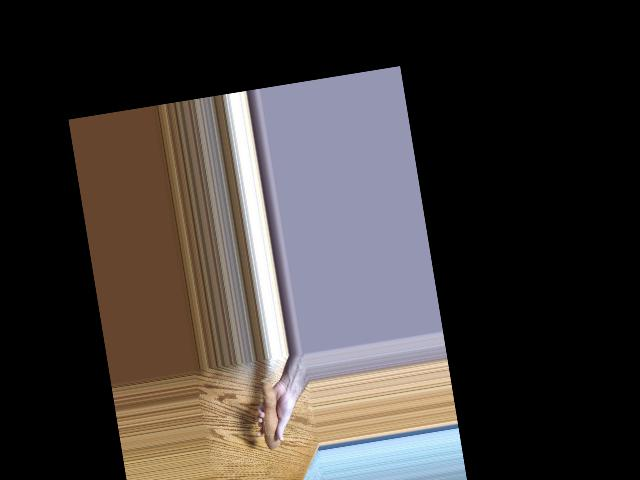sweet_potato: (252, 373, 293, 457)
